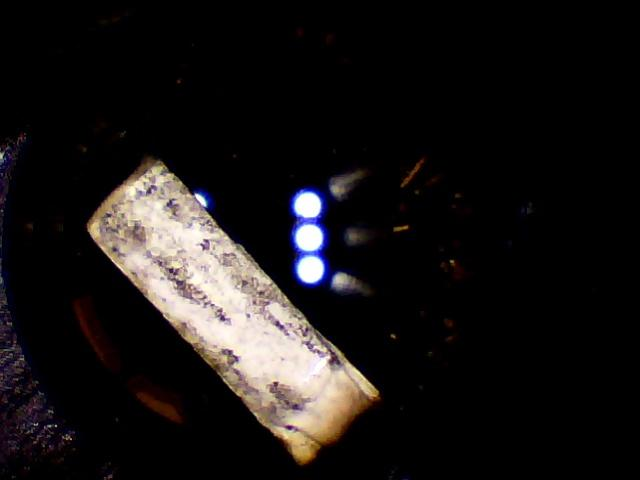megot: (62, 147, 391, 472)
